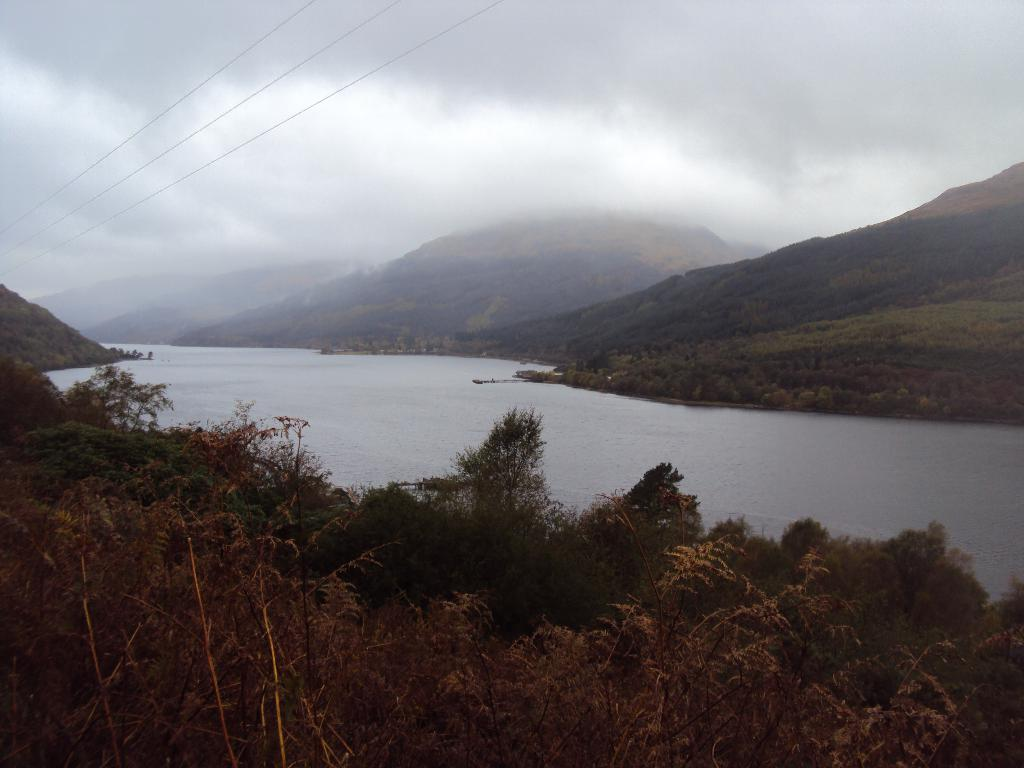Tree: (0, 345, 1024, 765), (454, 156, 1024, 422), (0, 282, 152, 370)
